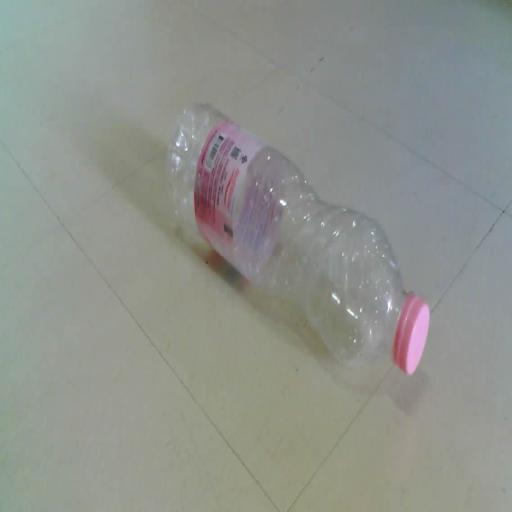bottle: (168, 106, 420, 375)
